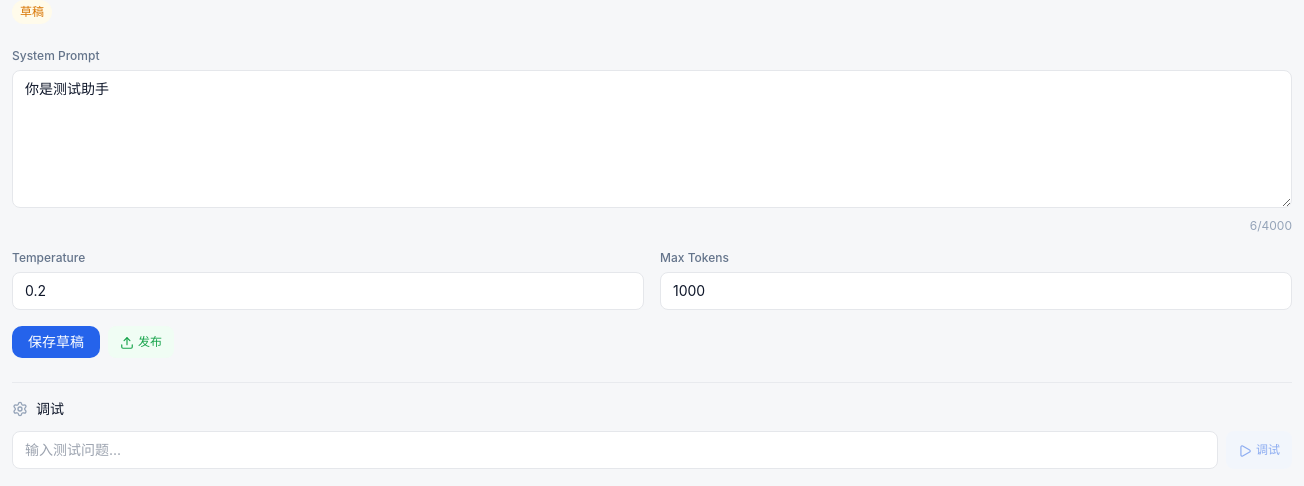
it: AgentConfig › 调试中按钮 disabled
This screenshot has width=1304, height=486.
Type "测试" into the field with placeholder "输入测试问题..." at (615, 450), box [12,431,1218,469]
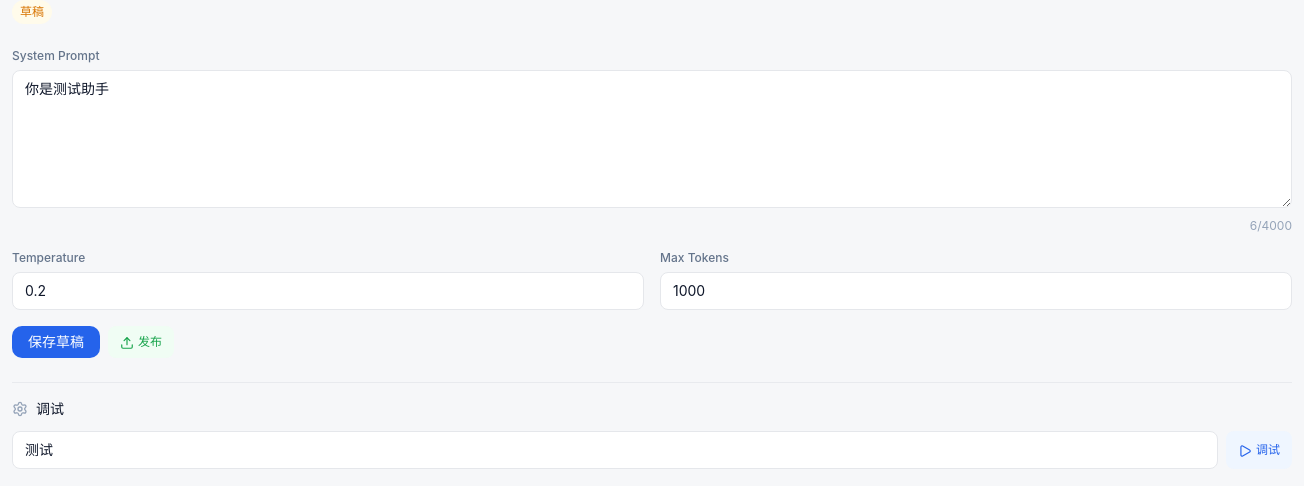
Click the button "调试" at (1259, 450), box [1226,431,1292,469]
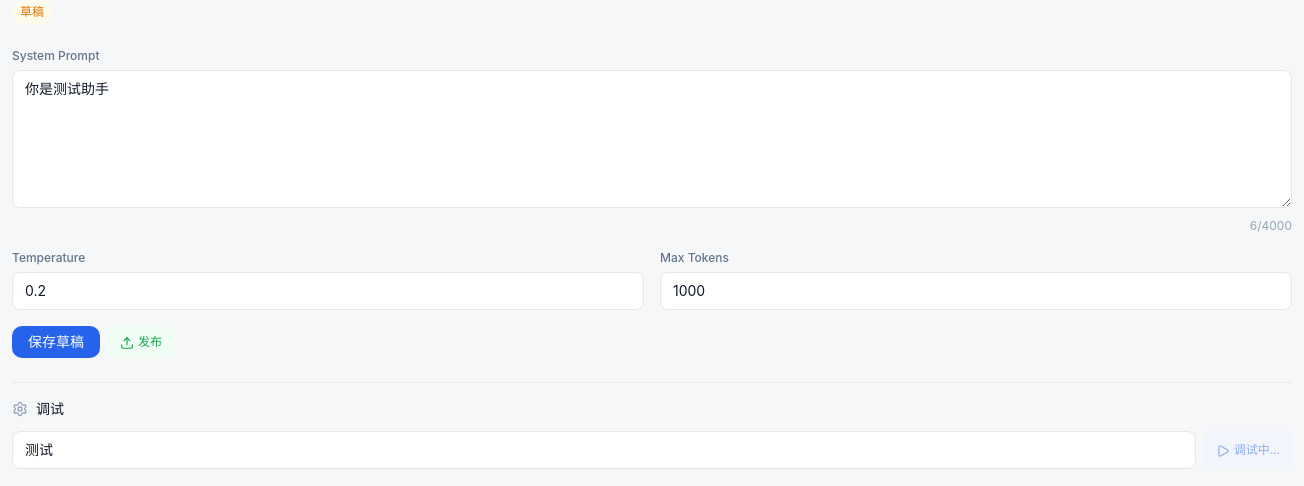
Now the button "调试中..." is shown, box [1204,431,1292,469]
